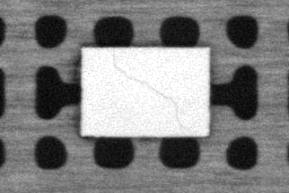DIE_CRACK: (109, 48, 182, 129)
